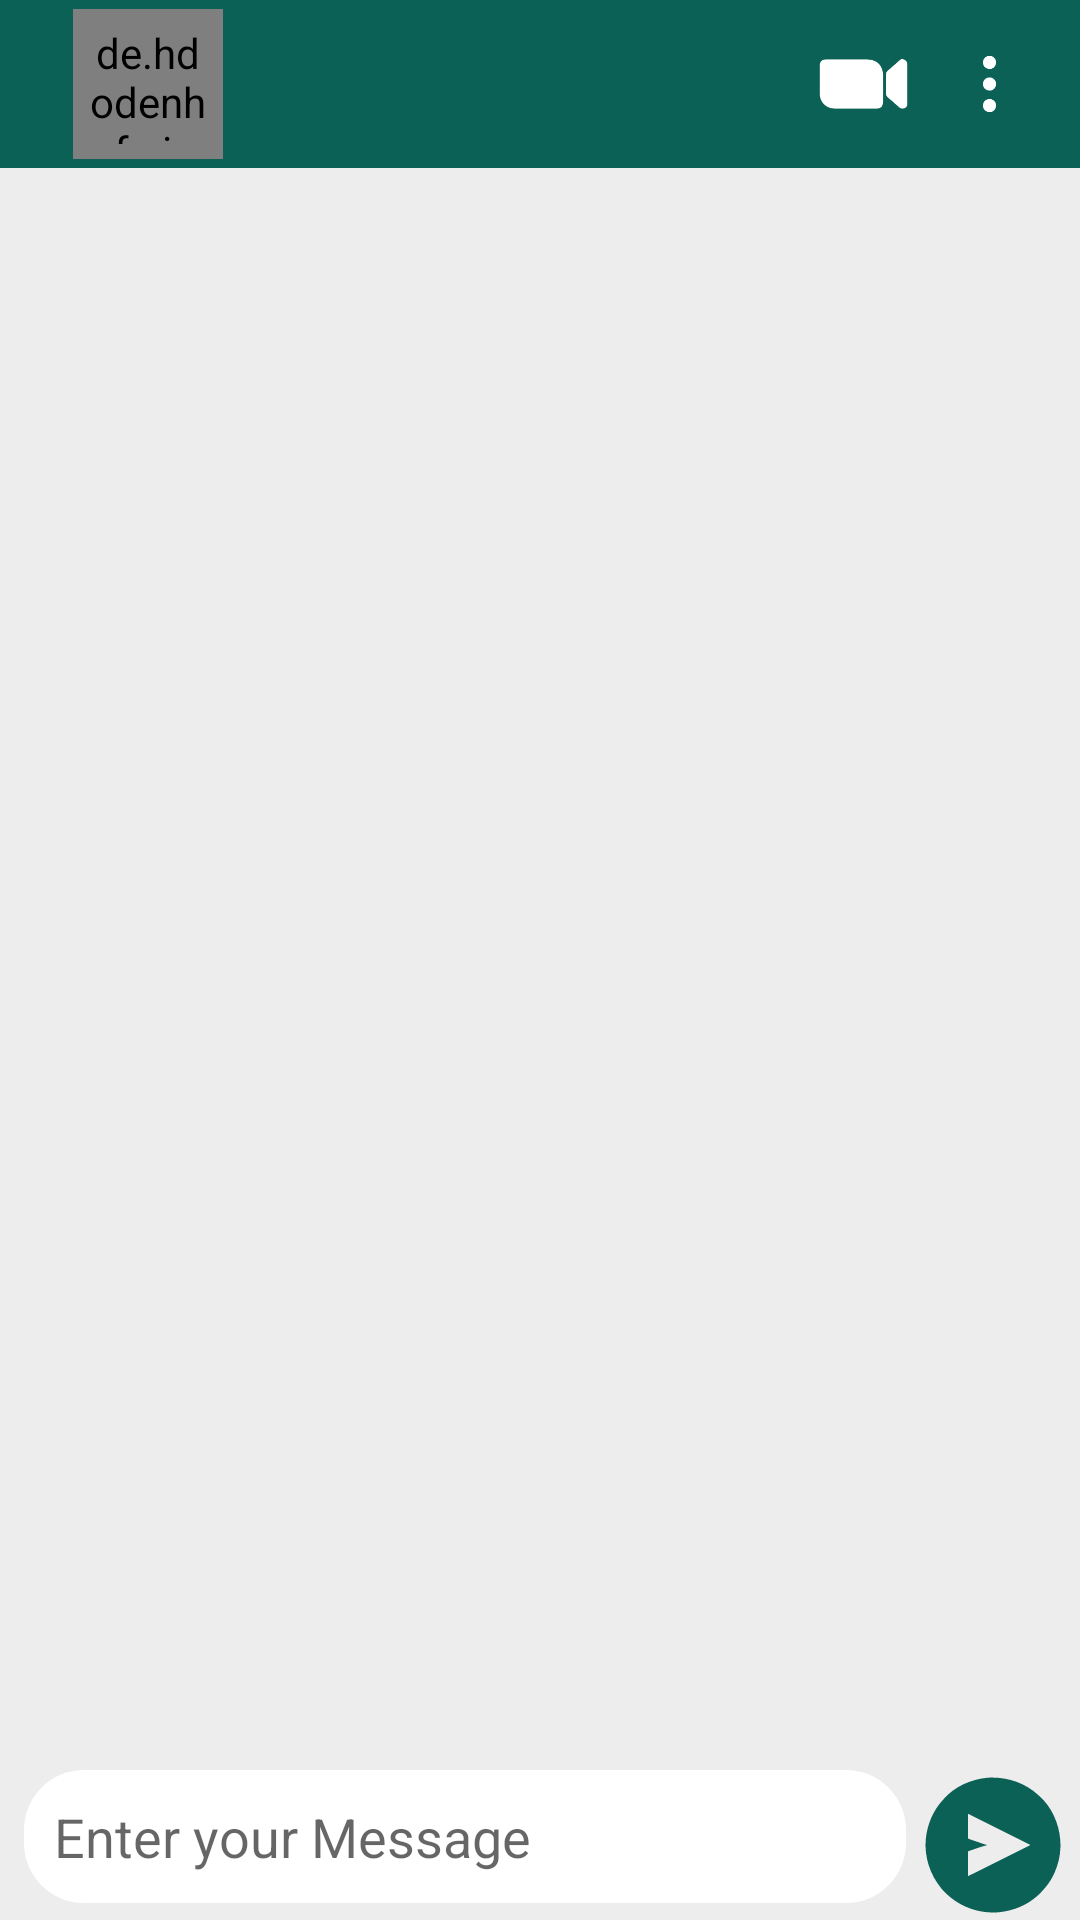

Where icons sit on this 1080 × 1920 app screen, as (x1=x1, y1=y1, x2=x2, y2=y2):
call: (x1=819, y1=59, x2=908, y2=109)
menu: (x1=983, y1=56, x2=996, y2=112)
send: (x1=925, y1=1777, x2=1061, y2=1913)
